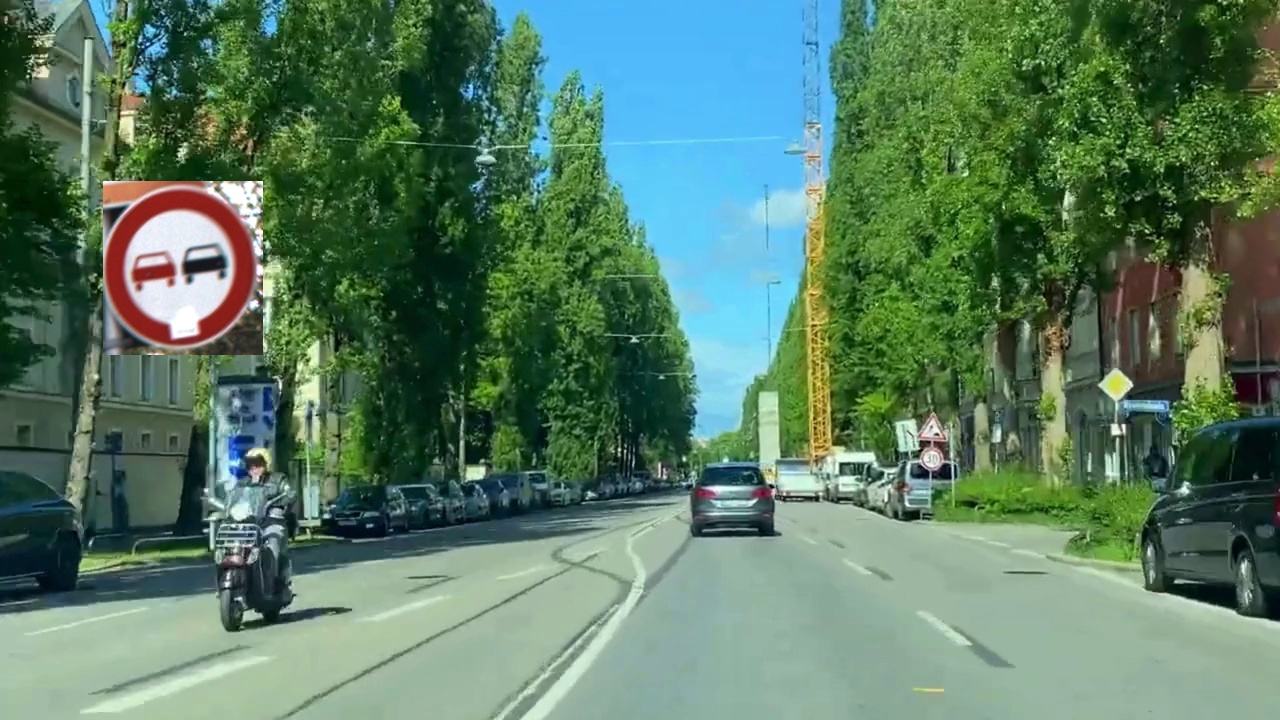No passing: (103, 181, 263, 355)
